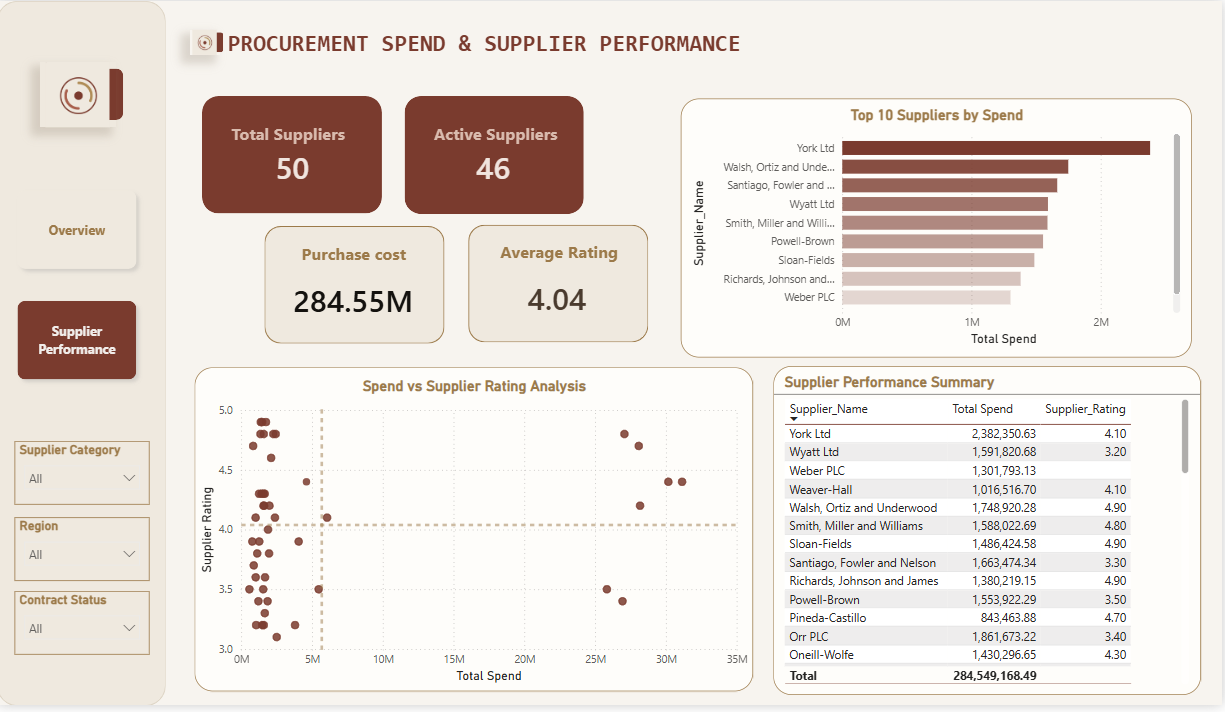

The page's visual inventory and layout, read from the dashboard file:
{"tool":"powerbi","page":{"name":"Supplier Performance","canvas":[1400,805],"ordinal":1},"visuals":[{"type":"shape","box":[226.4,36.1,31.4,23],"z":0,"group":"g8"},{"type":"shape","box":[65,77.7,80.1,58.9],"z":0,"group":"g9"},{"type":"group","id":"g1","title":"Group 1","box":[225.8,108.5,222,136],"z":0},{"type":"shape","box":[234.8,108.5,205.7,134.3],"z":0,"group":"g1"},{"type":"shape","box":[466.1,108.8,205,135],"z":0,"group":"g2"},{"type":"shape","box":[539.2,255.4,205.7,134.3],"z":0,"group":"g4"},{"type":"shape","box":[307,256.6,205.7,134.3],"z":0,"group":"g3"},{"type":"shape","box":[0,0,192.9,805.7],"z":1000},{"type":"pageNavigator","box":[13.7,207.4,154.7,235.3],"z":2000},{"type":"textbox","box":[263.3,134.4,160,54.4],"z":3000},{"type":"cardVisual","fields":{"Data":["suppliers_clean.Total Suppliers"]},"box":[225.8,134.8,224.3,108.6],"z":3000,"group":"g1"},{"type":"cardVisual","fields":{"Data":["suppliers_clean.Active Suppliers"]},"box":[457.8,135.5,220,105],"z":3000,"group":"g2"},{"type":"cardVisual","fields":{"Data":["Avg(suppliers_clean.Supplier_Rating)"]},"box":[530,285.4,220,105.7],"z":3000,"group":"g4"},{"type":"cardVisual","fields":{"Data":["payments_clean.Total Purchase Cost"]},"box":[297.8,286.6,220,105.7],"z":3000,"group":"g3"},{"type":"group","id":"g2","title":"Group 1","box":[457.8,108.8,220,134],"z":4000},{"type":"group","id":"g3","title":"Group 1","box":[297.8,256.6,220,135.7],"z":4000,"group":"g7"},{"type":"textbox","box":[494.4,134.4,167.8,52.2],"z":5000},{"type":"group","id":"g4","title":"Group 1","box":[530,255.4,220,135],"z":5000,"group":"g10"},{"type":"barChart","title":"Top 10 Suppliers by Spend","fields":{"Category":["suppliers_clean.Supplier_Name"],"Y":["suppliers_clean.Total Spend"]},"box":[782,112,584,296],"z":6000},{"type":"group","id":"g5","title":"Group 2","box":[48.6,70,97.1,74.3],"z":7000},{"type":"textbox","box":[556.4,267.8,173.8,76.2],"z":7000,"group":"g10"},{"type":"textbox","box":[343.6,270.8,138.8,53.8],"z":8000,"group":"g7"},{"type":"slicer","title":"Supplier Category","fields":{"Values":["suppliers_clean.Supplier_Category"]},"box":[20,502.9,154.3,72.9],"z":8000},{"type":"slicer","title":"Region","fields":{"Values":["suppliers_clean.Region"]},"box":[20,590,154.3,72.9],"z":9000},{"type":"slicer","title":"Contract Status","fields":{"Values":["suppliers_clean.Contract_Status"]},"box":[20,674.3,154.3,72.9],"z":10000},{"type":"tableEx","title":"Supplier Performance Summary ","fields":{"Values":["suppliers_clean.Supplier_Name","suppliers_clean.Total Spend","suppliers_clean.Supplier_Rating"]},"box":[887.5,417.5,488.8,376.2],"z":11000},{"type":"scatterChart","title":"Spend vs Supplier Rating Analysis","fields":{"X":["suppliers_clean.Total Spend"],"Series":["suppliers_clean.Supplier_Name"],"Y":["suppliers_clean.Average Rating Measure"]},"box":[226,418,638,370],"z":12000},{"type":"group","id":"g6","title":"Group 3","box":[220,26.7,658.3,63.3],"z":13000},{"type":"group","id":"g7","title":"Group 4","box":[297.8,256.6,220,135.7],"z":15000},{"type":"group","id":"g8","title":"Group 1","box":[226.4,36.1,31.4,23],"z":16000,"group":"g11"},{"type":"group","id":"g9","title":"Group 1","box":[65,77.7,80.1,58.9],"z":16000,"group":"g5"},{"type":"group","id":"g10","title":"Group 5","box":[530,255.4,220,134],"z":16000},{"type":"image","box":[220,33.1,34.5,29.1],"z":17000,"group":"g11"},{"type":"image","box":[48.6,70,87.5,74.2],"z":17000,"group":"g5"},{"type":"textbox","box":[258.4,26.7,620,62.7],"z":18000,"group":"g6"},{"type":"group","id":"g11","title":"Group 2","box":[220,33.1,37.9,29.1],"z":19000,"group":"g6"}]}

Visuals, with their boxes on the page's 1400x805 design canvas (x1, y1, x2, y2). These are canvas units, not pixel positions in the 1225x712 screenshot, which may show the page scaled, cropped or inside an application window:
shape: x1=226 y1=36 x2=258 y2=59
shape: x1=65 y1=78 x2=145 y2=137
"Group 1" group: x1=226 y1=108 x2=448 y2=244
shape: x1=235 y1=108 x2=440 y2=243
shape: x1=466 y1=109 x2=671 y2=244
shape: x1=539 y1=255 x2=745 y2=390
shape: x1=307 y1=257 x2=513 y2=391
shape: x1=0 y1=0 x2=193 y2=806
pageNavigator: x1=14 y1=207 x2=168 y2=443
textbox: x1=263 y1=134 x2=423 y2=189
cardVisual - suppliers_clean.Total Suppliers: x1=226 y1=135 x2=450 y2=243
cardVisual - suppliers_clean.Active Suppliers: x1=458 y1=136 x2=678 y2=240
cardVisual - Avg(suppliers_clean.Supplier_Rating): x1=530 y1=285 x2=750 y2=391
cardVisual - payments_clean.Total Purchase Cost: x1=298 y1=287 x2=518 y2=392
"Group 1" group: x1=458 y1=109 x2=678 y2=243
"Group 1" group: x1=298 y1=257 x2=518 y2=392
textbox: x1=494 y1=134 x2=662 y2=187
"Group 1" group: x1=530 y1=255 x2=750 y2=390
"Top 10 Suppliers by Spend" barChart: x1=782 y1=112 x2=1366 y2=408
"Group 2" group: x1=49 y1=70 x2=146 y2=144
textbox: x1=556 y1=268 x2=730 y2=344
textbox: x1=344 y1=271 x2=482 y2=325
"Supplier Category" slicer: x1=20 y1=503 x2=174 y2=576
"Region" slicer: x1=20 y1=590 x2=174 y2=663
"Contract Status" slicer: x1=20 y1=674 x2=174 y2=747
"Supplier Performance Summary " tableEx: x1=888 y1=418 x2=1376 y2=794
"Spend vs Supplier Rating Analysis" scatterChart: x1=226 y1=418 x2=864 y2=788
"Group 3" group: x1=220 y1=27 x2=878 y2=90
"Group 4" group: x1=298 y1=257 x2=518 y2=392
"Group 1" group: x1=226 y1=36 x2=258 y2=59
"Group 1" group: x1=65 y1=78 x2=145 y2=137
"Group 5" group: x1=530 y1=255 x2=750 y2=389
image: x1=220 y1=33 x2=254 y2=62
image: x1=49 y1=70 x2=136 y2=144
textbox: x1=258 y1=27 x2=878 y2=89
"Group 2" group: x1=220 y1=33 x2=258 y2=62
